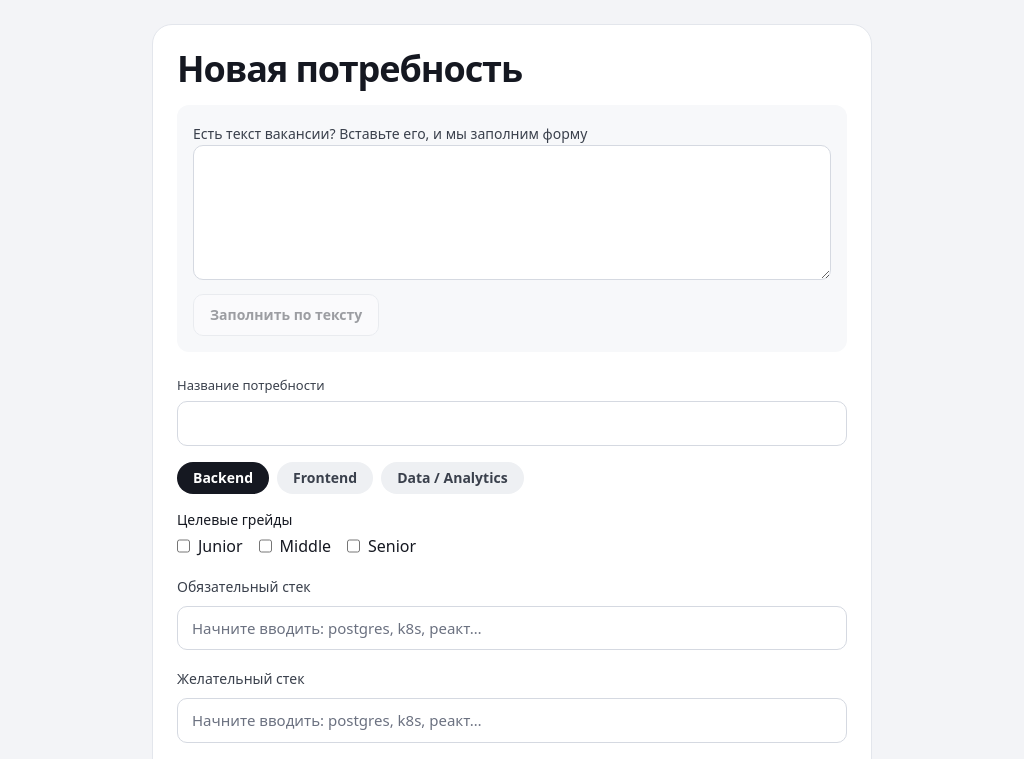
Test: NeedForm text import › fills the form from vacancy text and shows what is missing
In the text box labelled "Есть текст вакансии? Вставьте его, и мы заполним форму": [512, 212] box [193,145,831,280], type "Ищем Python-разработчика middle, удалёнка"
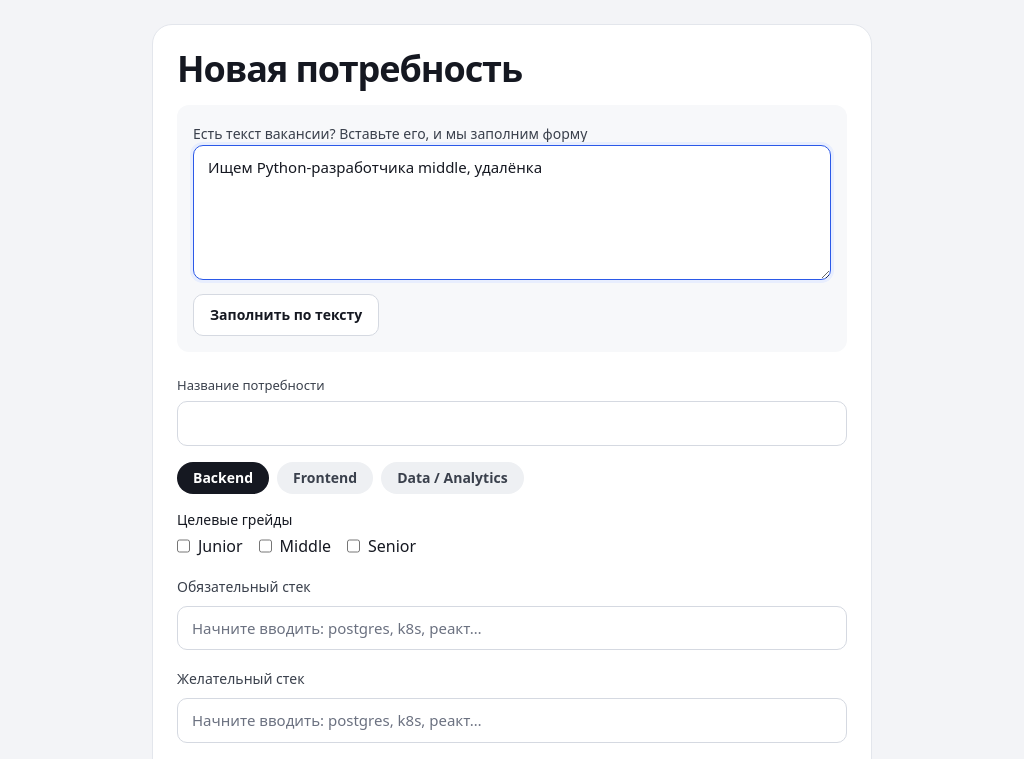
Click the button "Заполнить по тексту": [286, 314] box [193,294,379,336]
(page scrolled)
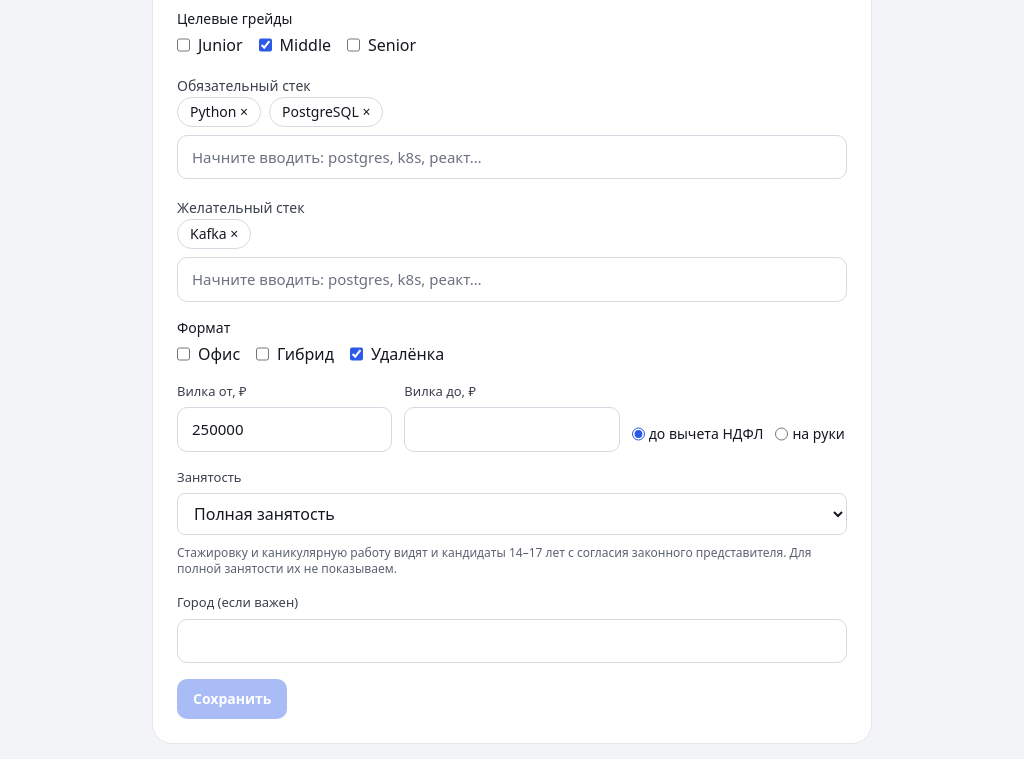
Expected: the button "Сохранить" is disabled, [177,679,287,719]
Expected: the button "PostgreSQL ×" is shown, [269,96,383,126]
Expected: the checkbox labelled "Middle" is checked, [259,32,272,56]
